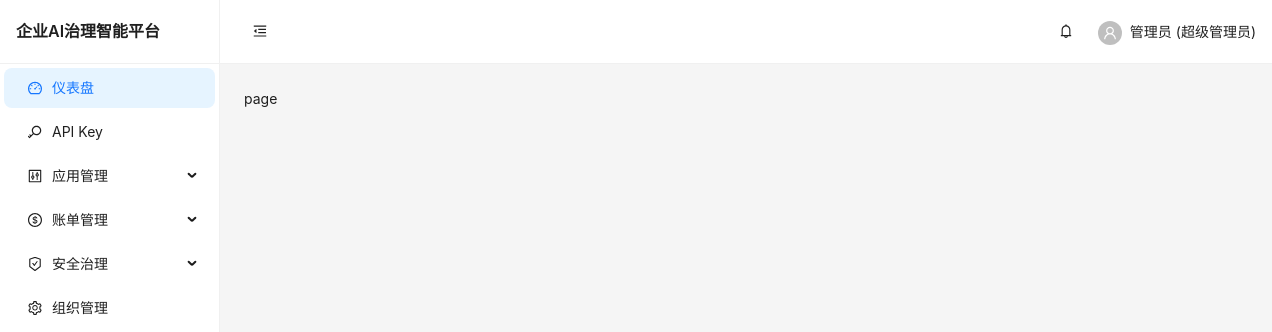
AdminLayout › Collapse/Expand sidebar › should hide title and show content when collapsed
Expected: the text "企业AI治理智能平台" is shown, [16, 21, 160, 41]
Click the 1st button at (260, 32), box [244, 16, 276, 48]
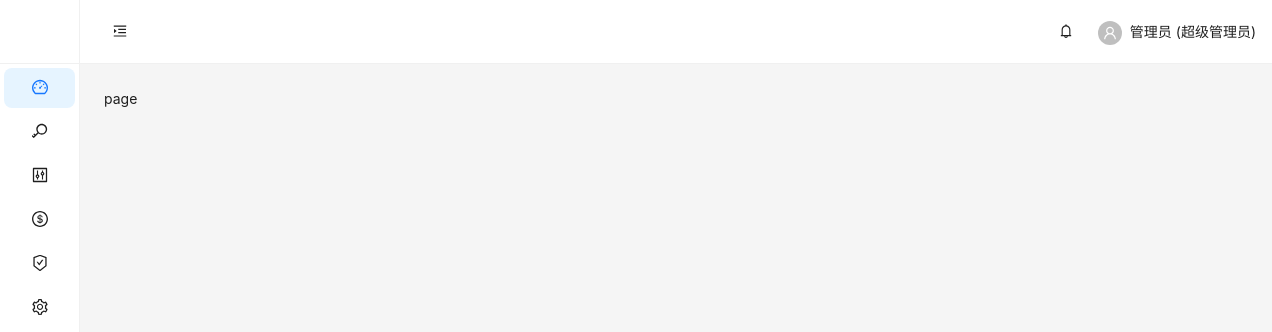
Now the text "企业AI治理智能平台" is gone
